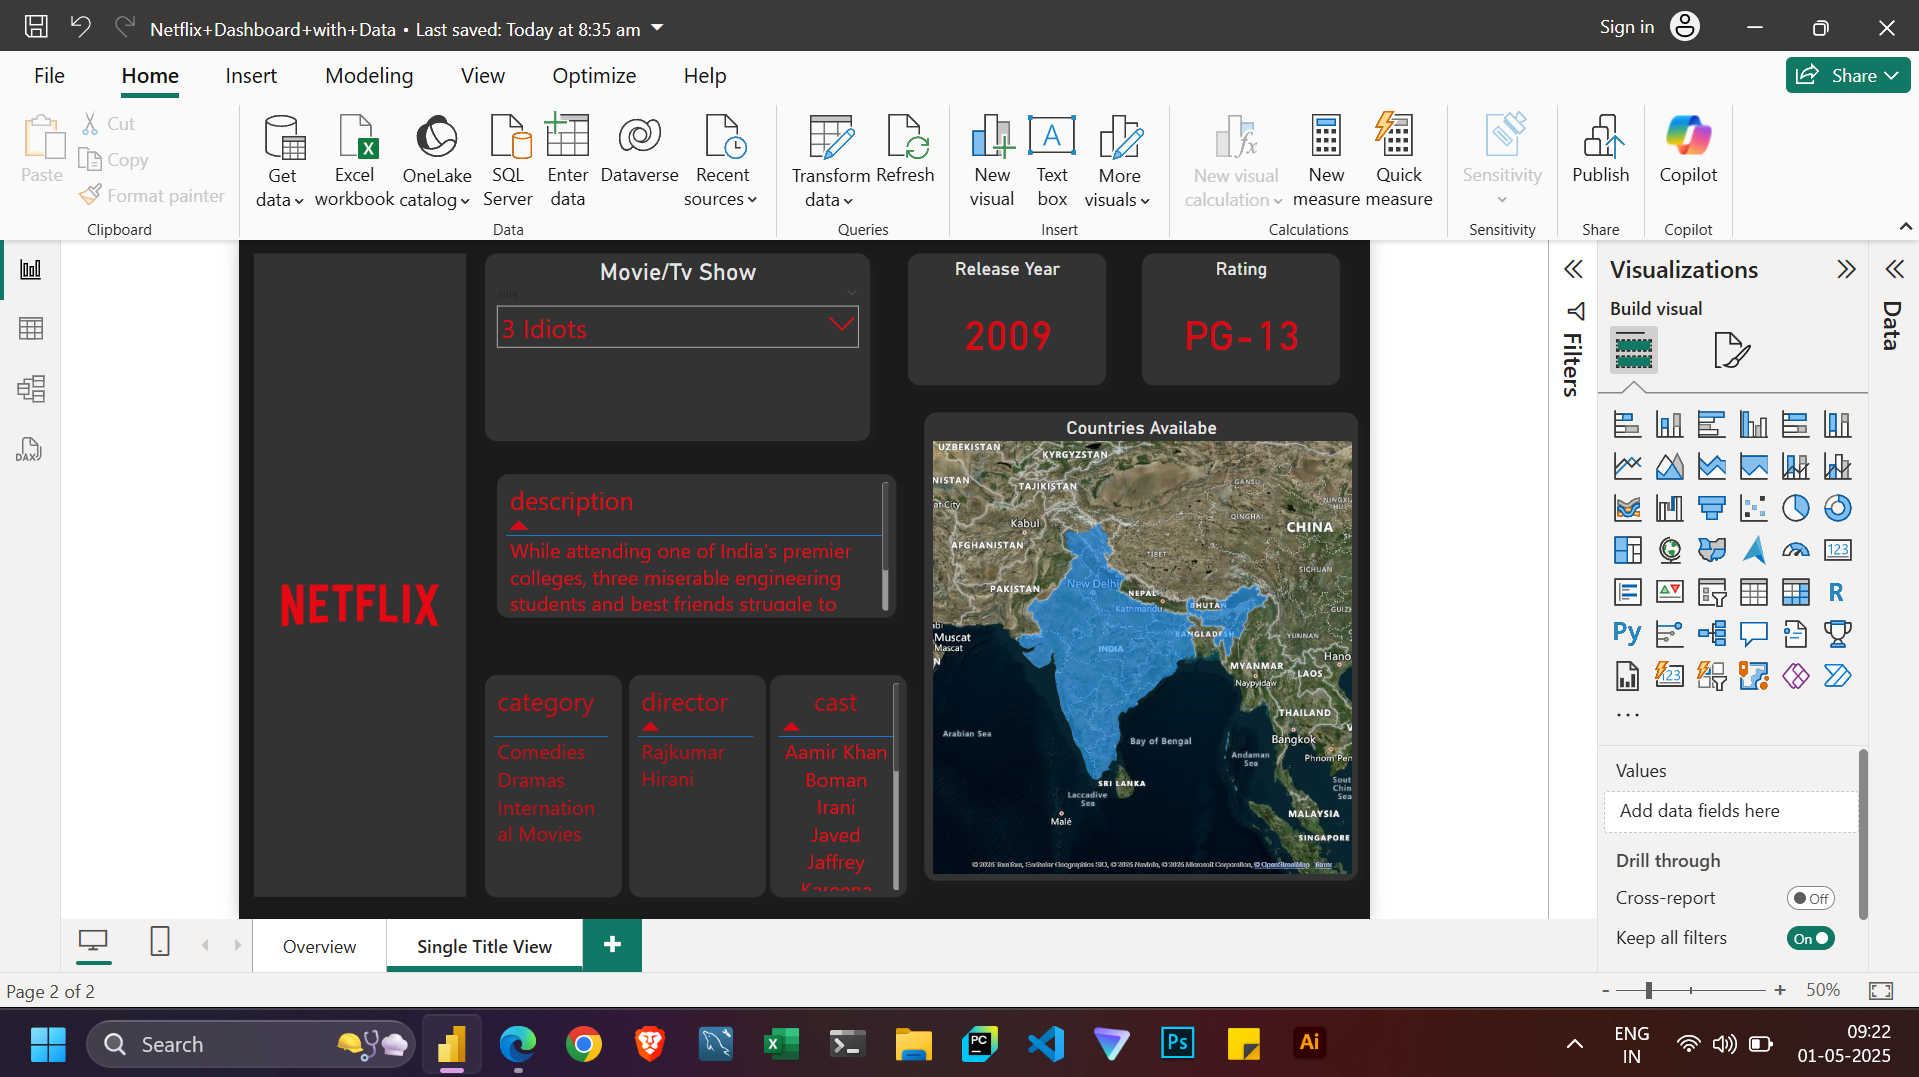

This screenshot's page, from the dashboard's own definition file:
{"tool":"powerbi","page":{"name":"Single Title View","canvas":[1500,900],"ordinal":1},"visuals":[{"type":"shape","box":[19.9,17.7,281.3,852.6],"z":0},{"type":"card","title":"Rating","fields":{"Values":["Min(netflix_data titles.rating)"]},"box":[1196.9,17.9,262.5,175],"z":1000},{"type":"filledMap","title":"Countries Availabe","fields":{"Category":["netflix_data countries_released.country"]},"box":[908.6,228.7,574.6,620.3],"z":2000},{"type":"image","box":[28.8,347.7,265.8,265.8],"z":3000},{"type":"card","title":"Release Year","fields":{"Values":["Sum(netflix_data titles.release_year)"]},"box":[886.8,17.9,262.5,175],"z":4000},{"type":"slicer","title":"Movie/Tv Show","fields":{"Values":["netflix_data titles.title"]},"box":[326.1,17.9,511,248.5],"z":5000},{"type":"tableEx","title":"Cast","fields":{"Values":["netflix_data netflix_cast.cast"]},"box":[704.2,575.8,181.6,294.5],"z":6000},{"type":"tableEx","title":"Cast","fields":{"Values":["netflix_data description.description"]},"box":[341,310,529.3,190.5],"z":7000},{"type":"tableEx","title":"Cast","fields":{"Values":["netflix_data netflix_directors.director"]},"box":[516,575.8,181.6,294.5],"z":8000},{"type":"tableEx","title":"Cast","fields":{"Values":["netflix_data netflix_listed_in.category"]},"box":[325.5,575.8,181.6,294.5],"z":9000}]}

Visuals, with their boxes on the page's 1500x900 design canvas (x1, y1, x2, y2). These are canvas units, not pixel positions in the 1919x1077 screenshot, which may show the page scaled, cropped or inside an application window:
shape: bbox(20, 18, 301, 870)
"Rating" card: bbox(1197, 18, 1459, 193)
"Countries Availabe" filledMap: bbox(909, 229, 1483, 849)
image: bbox(29, 348, 295, 614)
"Release Year" card: bbox(887, 18, 1149, 193)
"Movie/Tv Show" slicer: bbox(326, 18, 837, 266)
"Cast" tableEx: bbox(704, 576, 886, 870)
"Cast" tableEx: bbox(341, 310, 870, 500)
"Cast" tableEx: bbox(516, 576, 698, 870)
"Cast" tableEx: bbox(326, 576, 507, 870)
